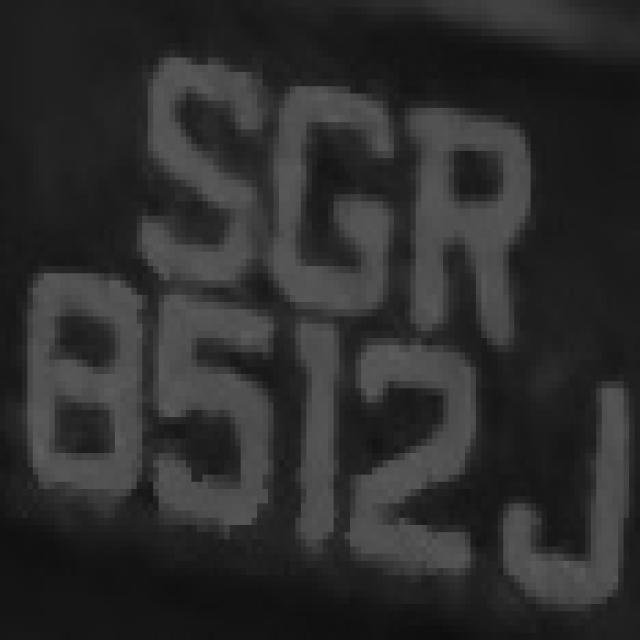1: (284, 295, 361, 561)
2: (356, 295, 465, 582)
5: (148, 266, 274, 547)
8: (22, 237, 142, 525)
G: (268, 65, 399, 316)
J: (492, 381, 634, 626)
R: (416, 79, 552, 367)
S: (126, 29, 257, 295)
